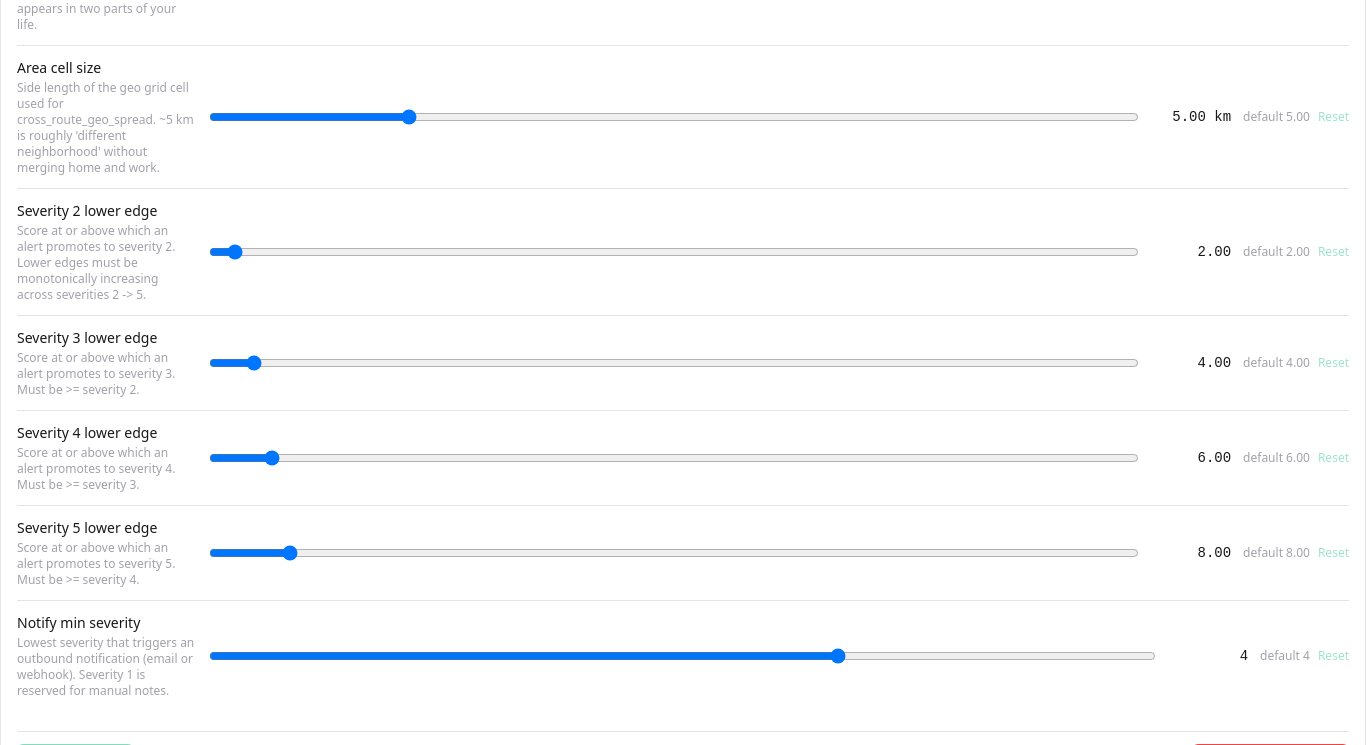
Test: AlprTuningCard › flags monotonic violation inline without contacting the API
This screenshot has width=1366, height=745.
(page scrolled)
Drop sev3 below sev2 (default 2). Slider step is 0.1, range [0,100].
Set the slider with test id "tuning-knob-severity_bucket_sev3" to "1" at (226, 363), box [209,355,1139,371]
(page scrolled)
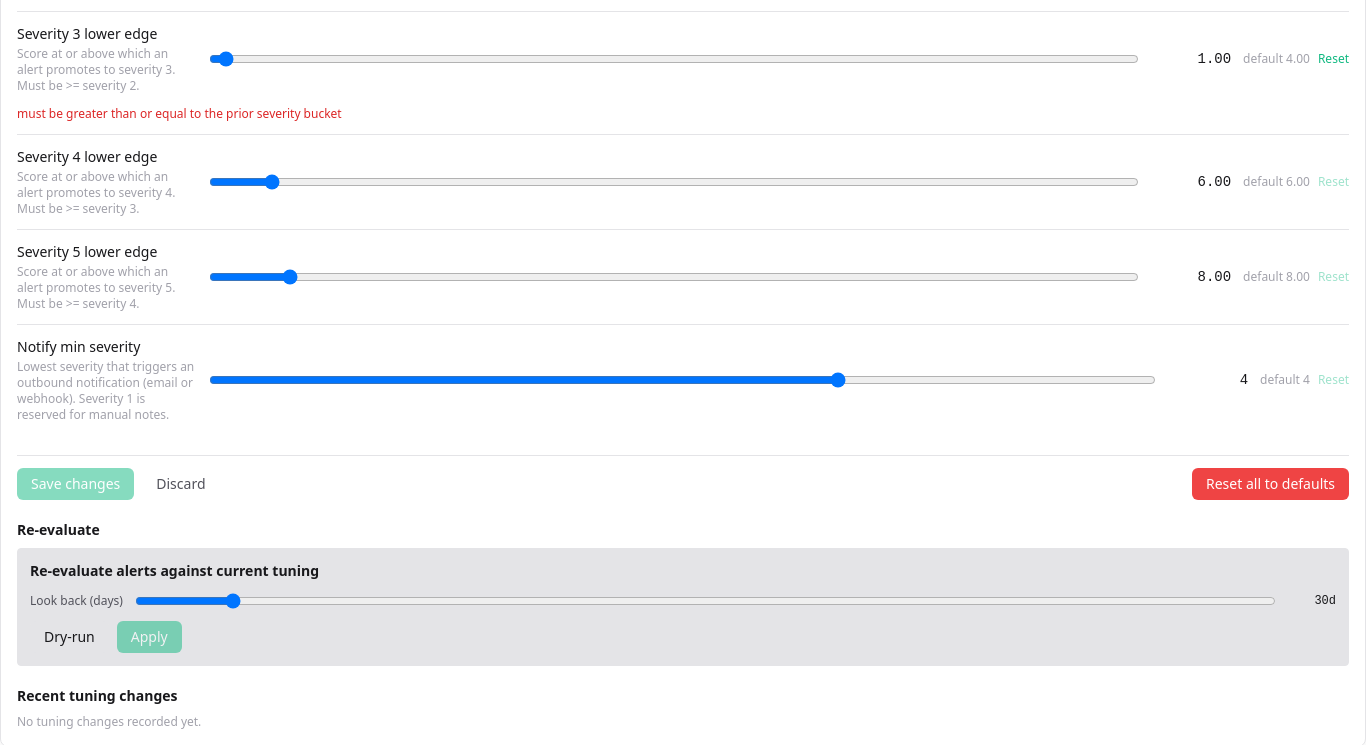
expect the button with test id "tuning-save" is disabled: met, box [17,468,134,500]
expect the message "must be greater than or equal to the prior severity bucket" is shown: met, box [17,105,342,122]
